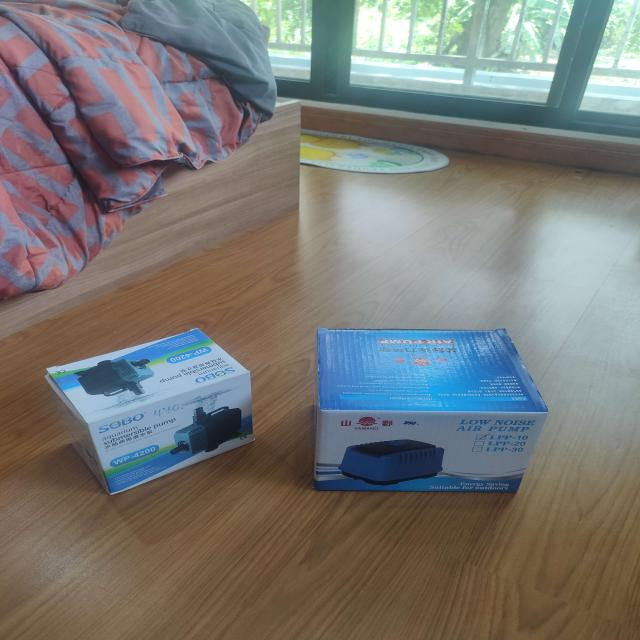SOBO_WP_4200: (41, 322, 260, 497)
YAMANO_LPP_20: (305, 323, 565, 507)
